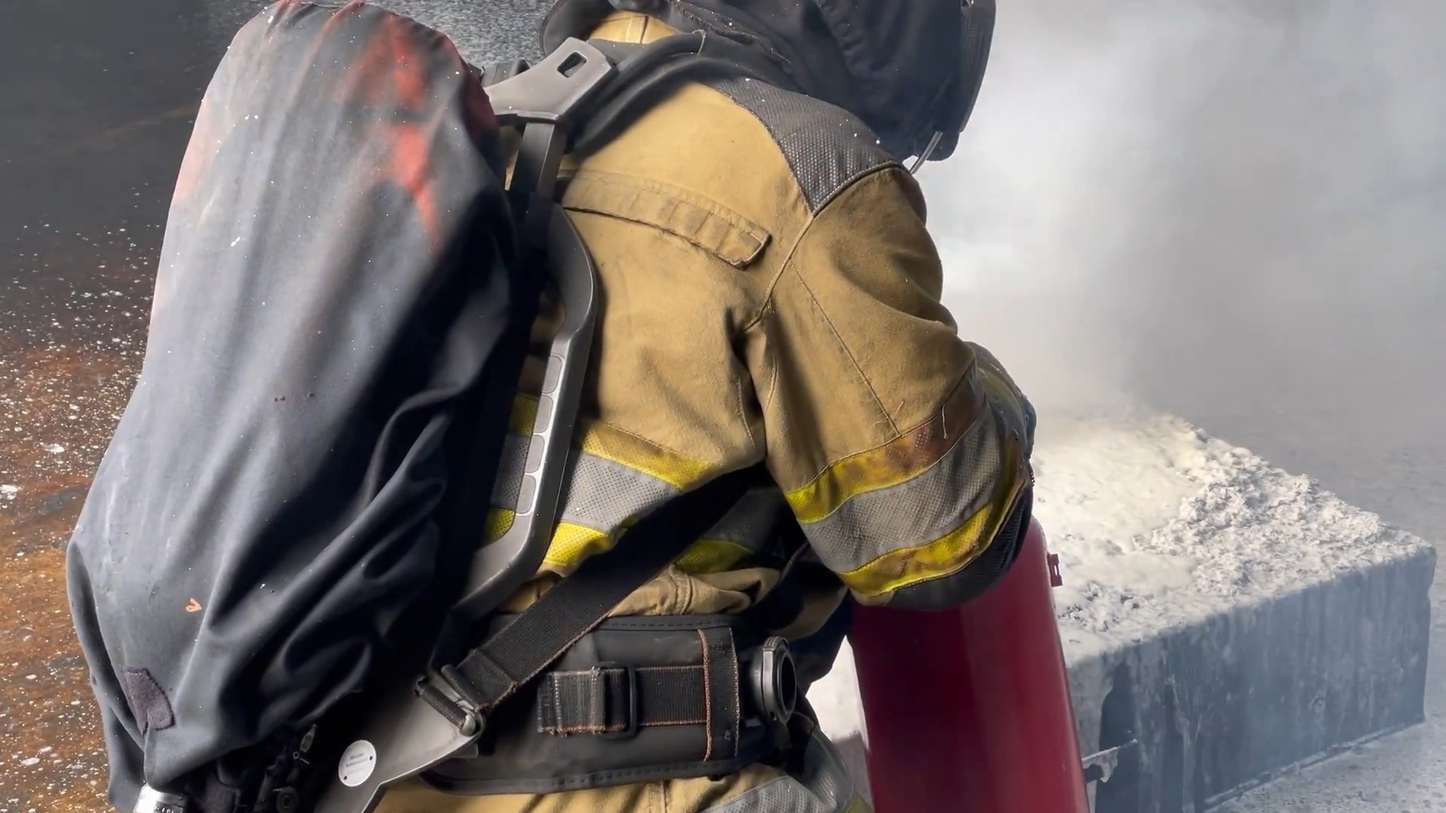smoke: (849, 24, 1438, 632)
